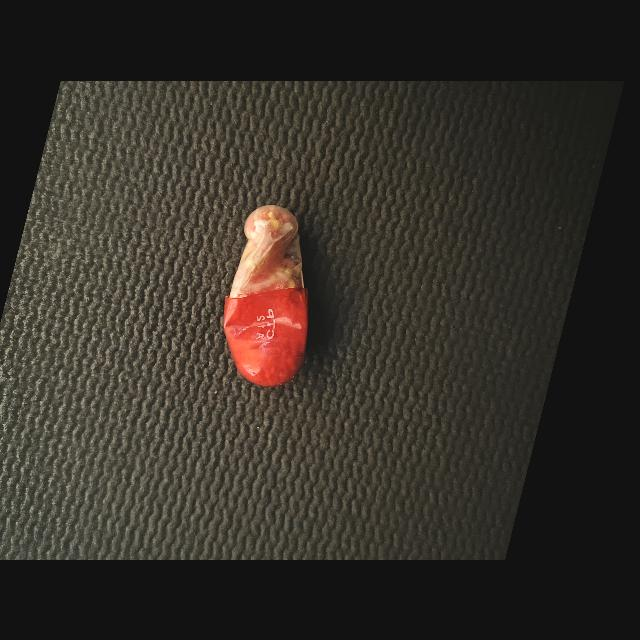Defective Capsule: (223, 204, 307, 385)
